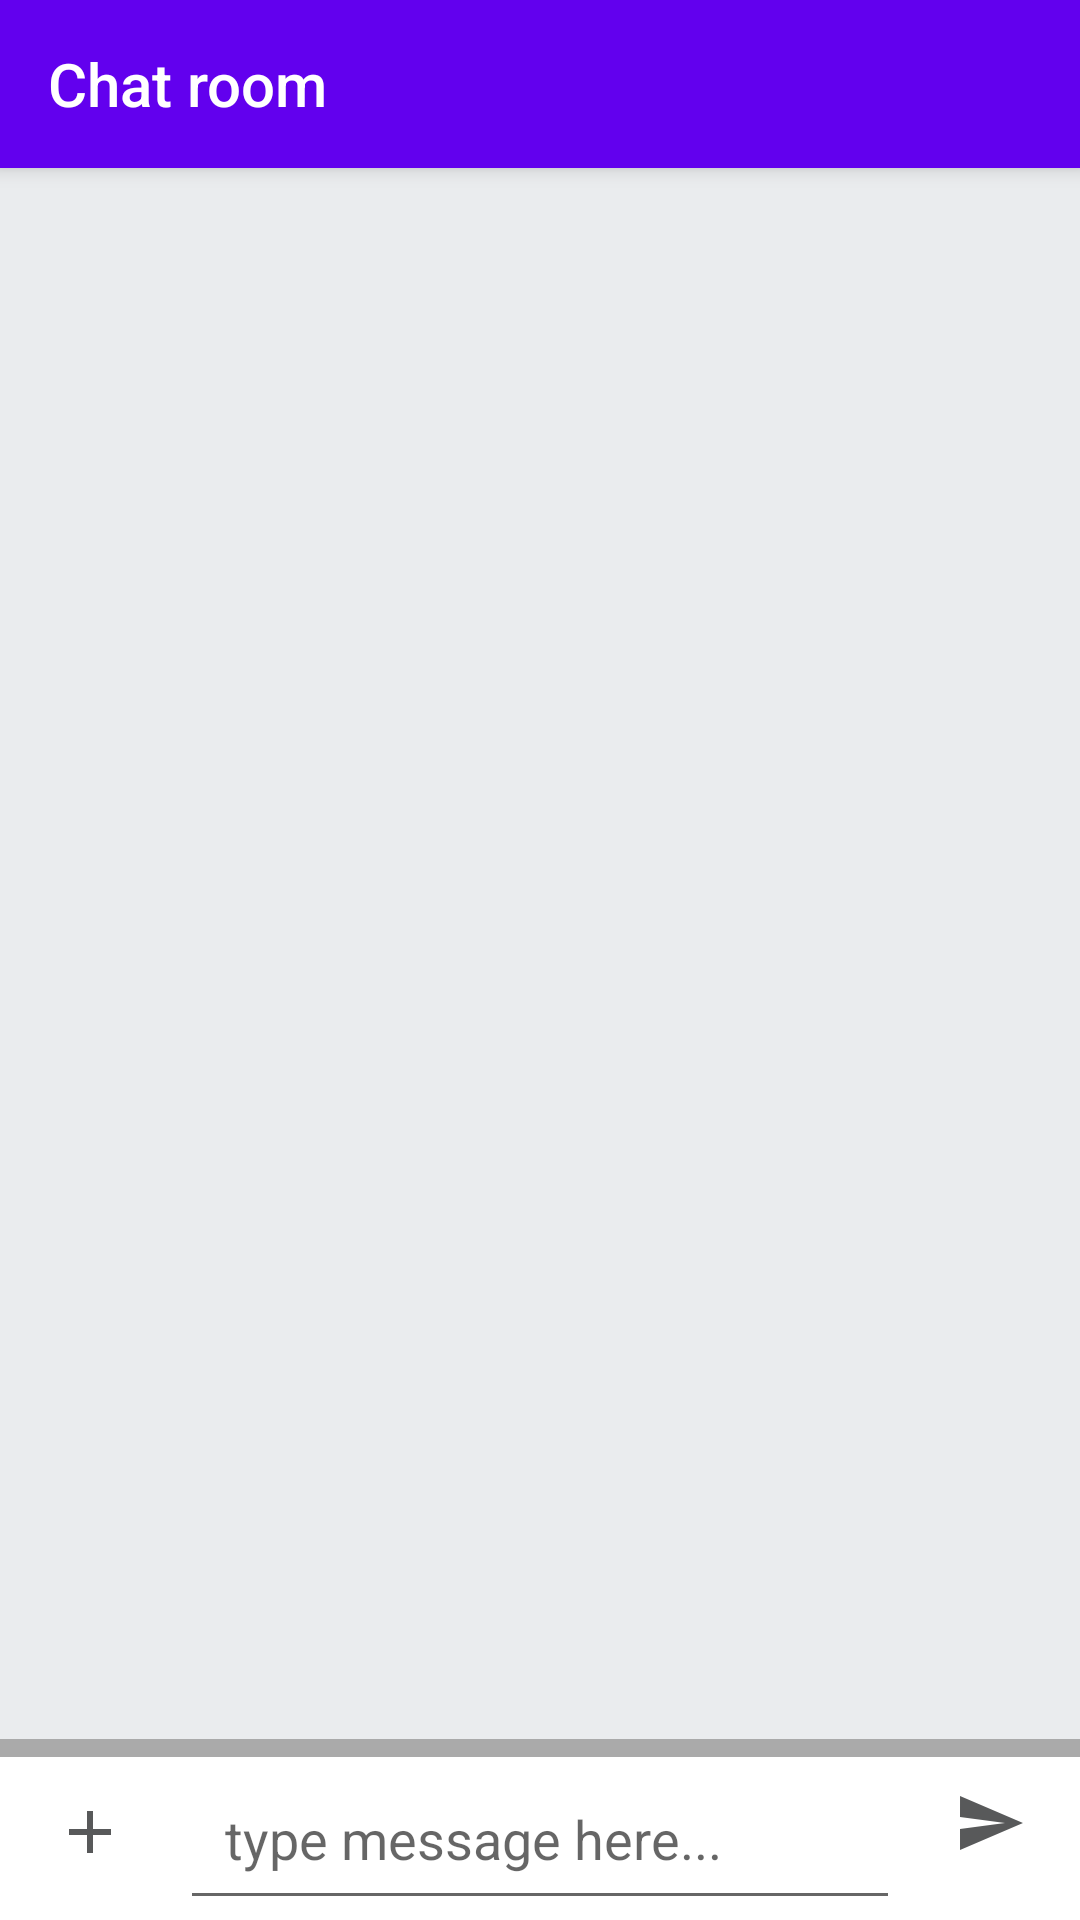

Where icons sit on this 1080w x 1920h app screen, as (x1, y1, x2, y2):
add: (69, 1811, 111, 1853)
send: (960, 1796, 1023, 1850)
